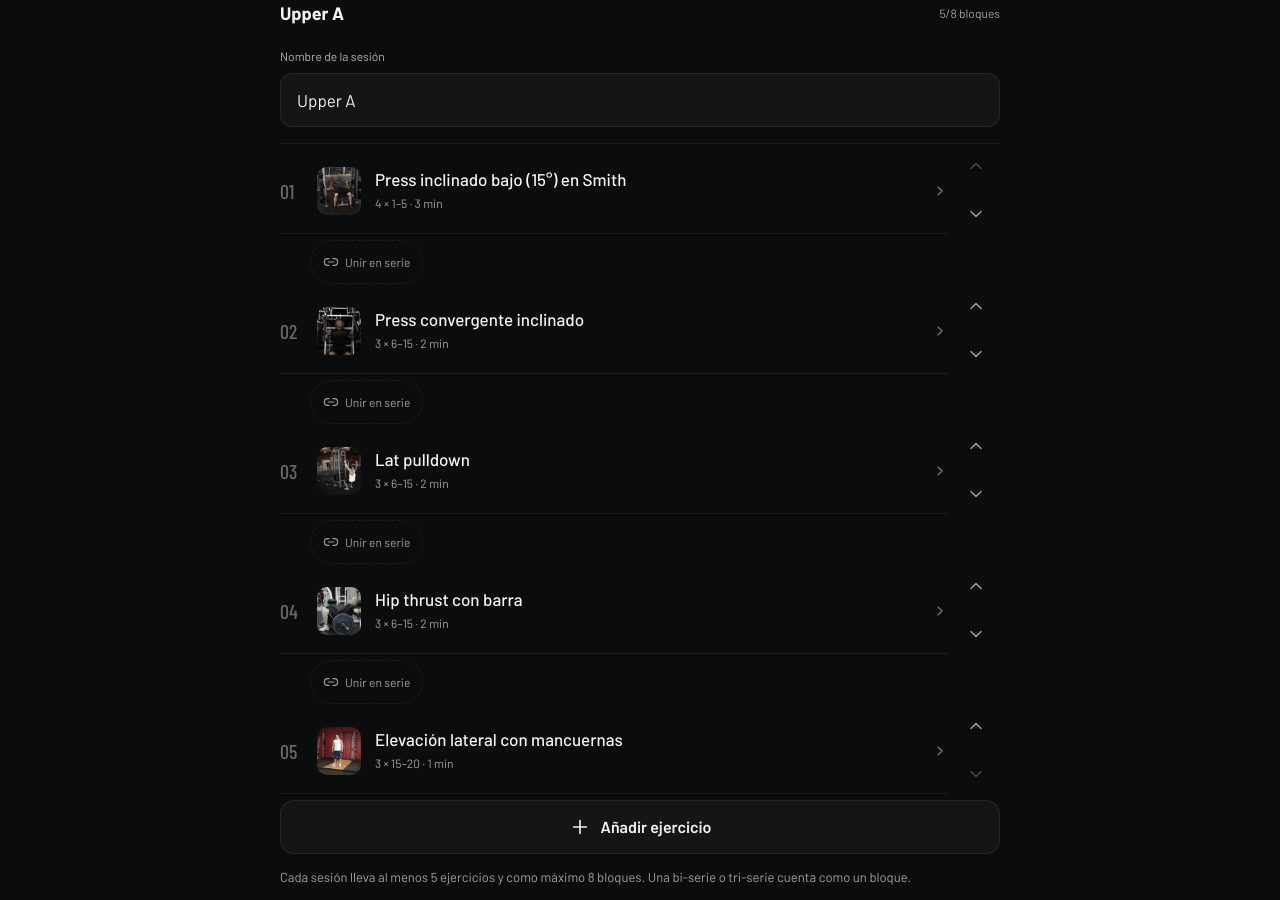
Scenario: la lista de «Añadir ejercicio» muestra el equipo en lenguaje sencillo, no su clave interna
(page scrolled)
Click the button "Añadir ejercicio": (640, 827) [280,800,1000,854]
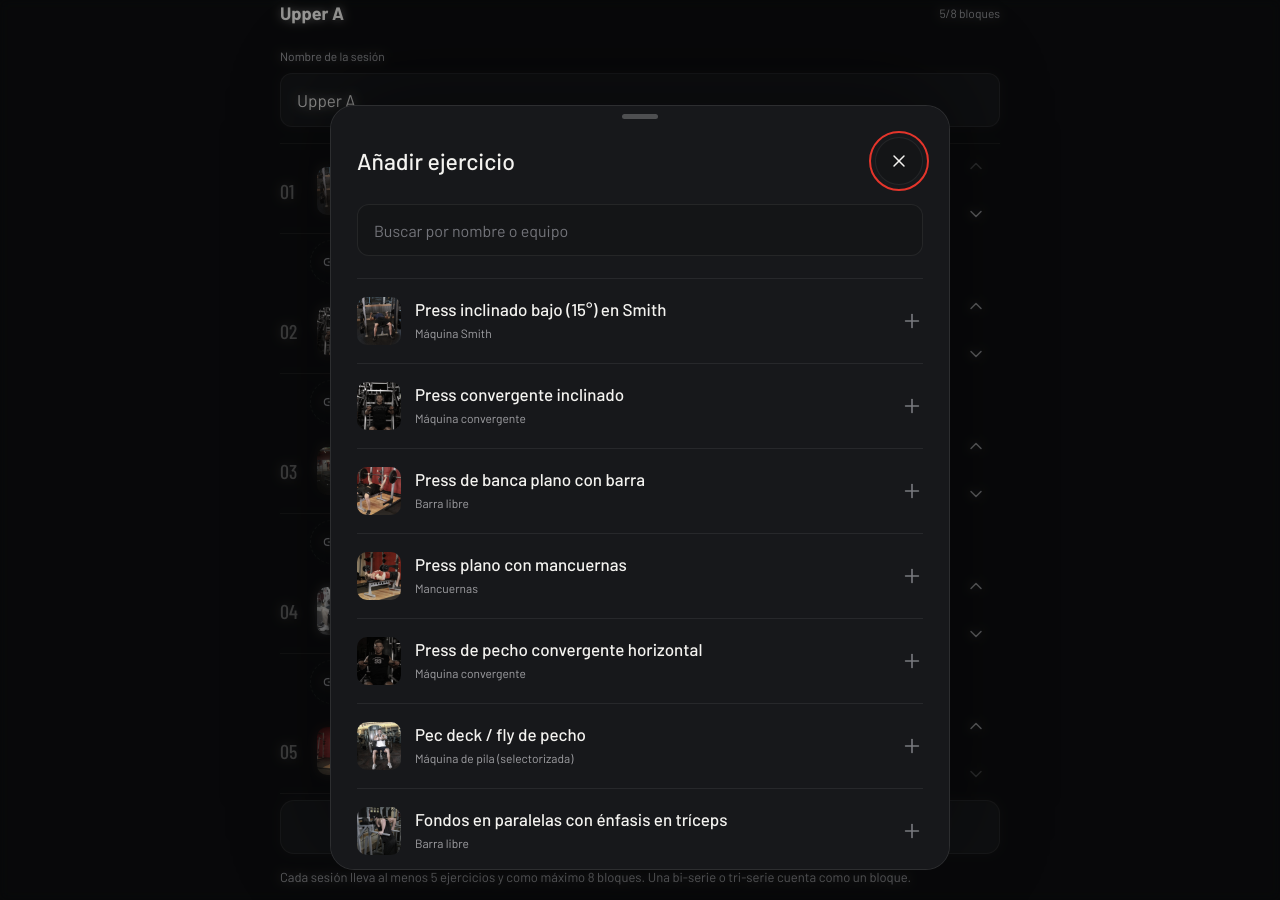
In the field named "Buscar ejercicio": (640, 230) [357,204,923,256], type "banca plano con barra"
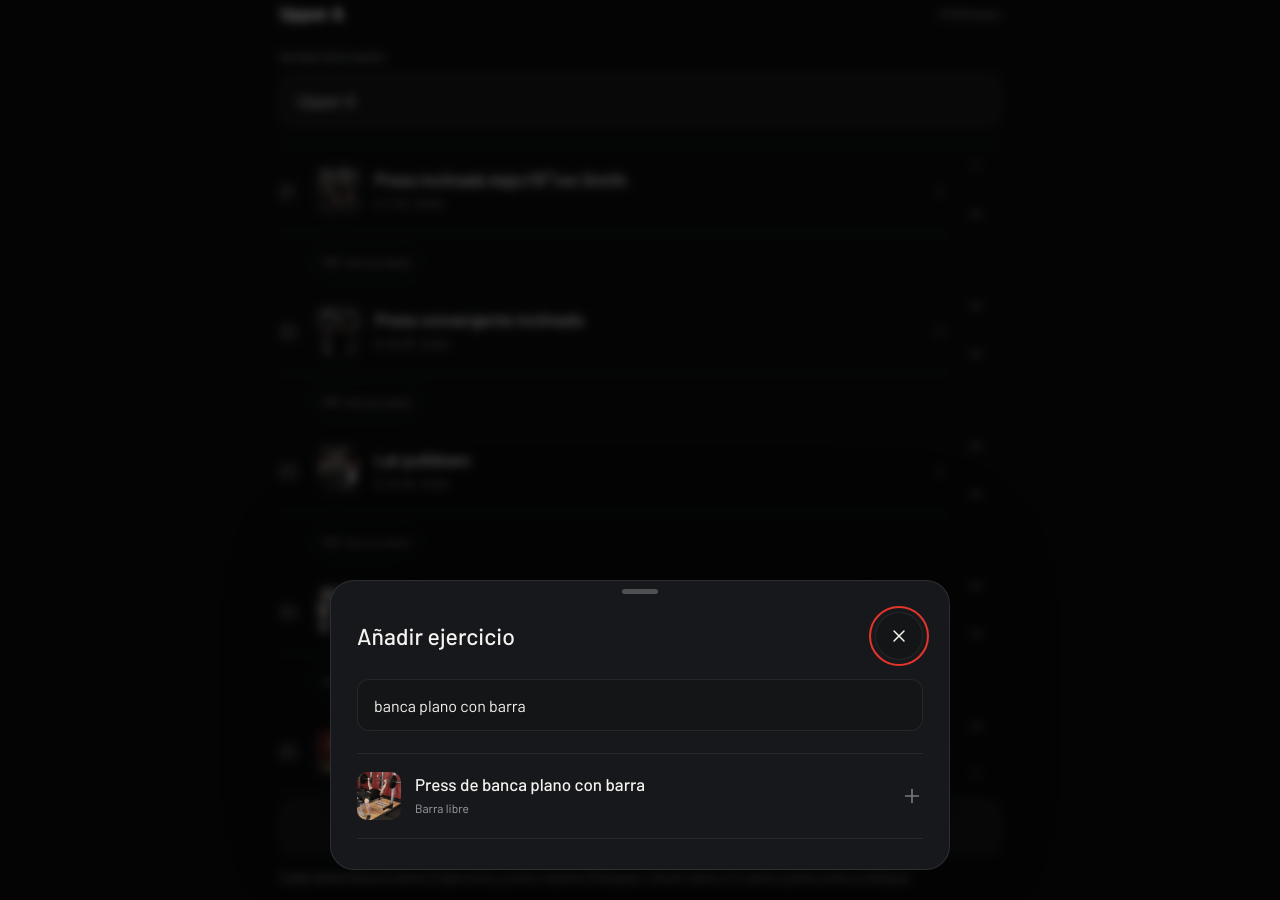
Expected: the text "Barra libre" is shown, [415,801,469,815]
Note: También se busca por el nombre que ve el coach.
Replace the text in the field named "Buscar ejercicio" with "pila": (640, 705) [357,679,923,731]
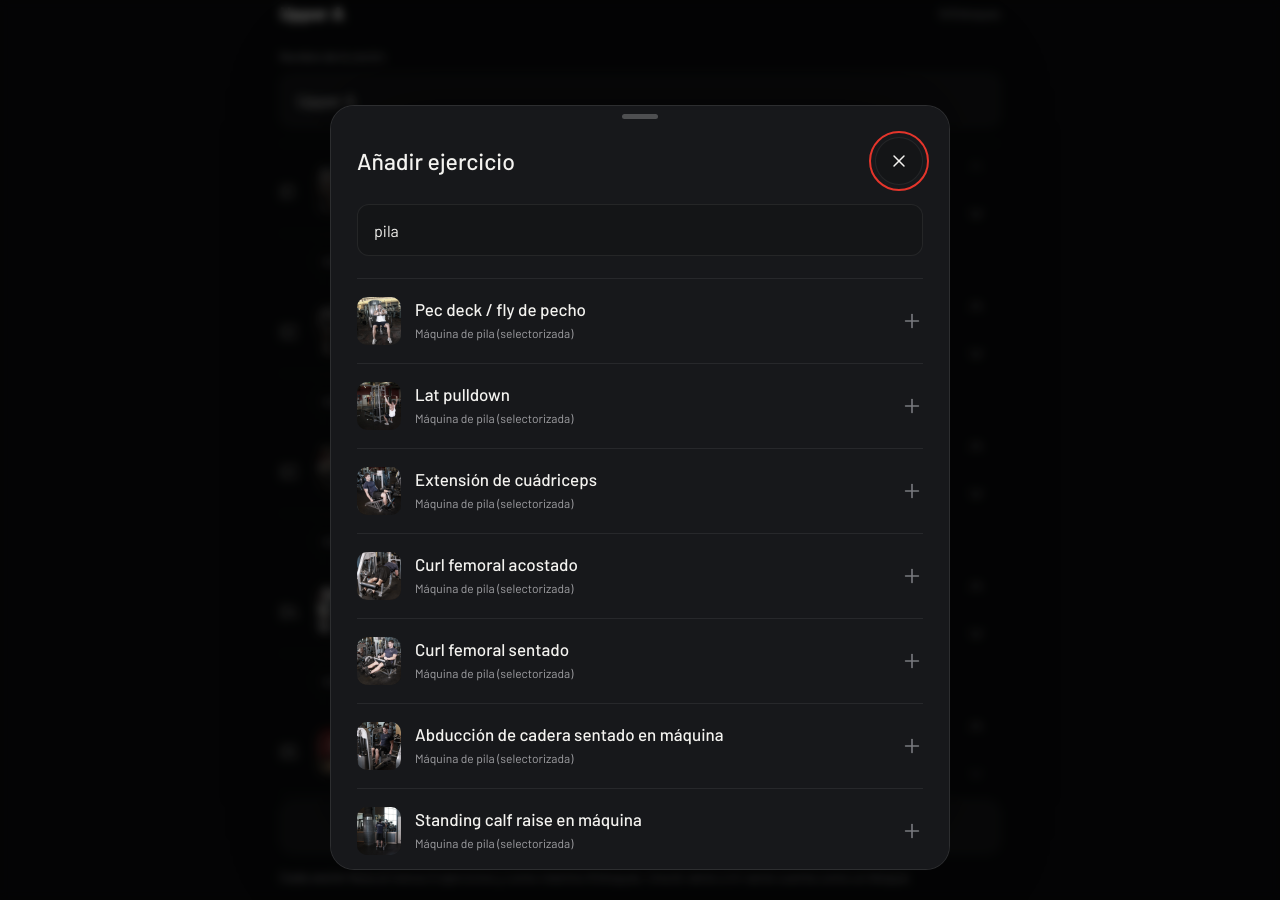
Expected: the dialog "Añadir ejercicio" does not show "maquinaTradicional", [330,105,950,870]
Expected: the text "Extensión de cuádriceps" is shown, [415,470,597,490]
Note: «plate» encuentra las máquinas de discos por su etiqueta.
Replace the text in the field named "Buscar ejercicio" with "plate": (640, 230) [357,204,923,256]
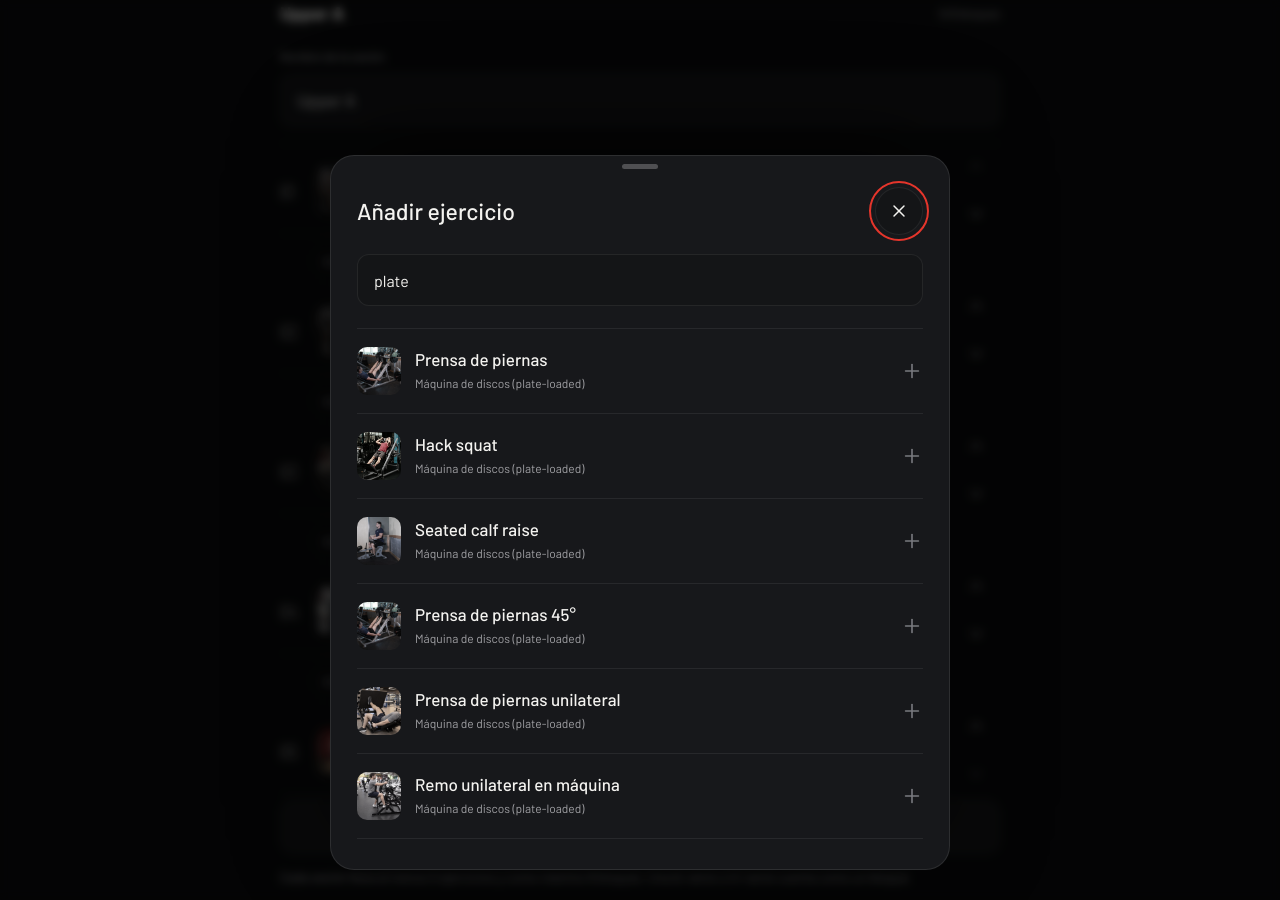
Expected: the text "Prensa de piernas 45°" is shown, [415,604,576,624]
Expected: the button "Extensión de cuádriceps" is gone
